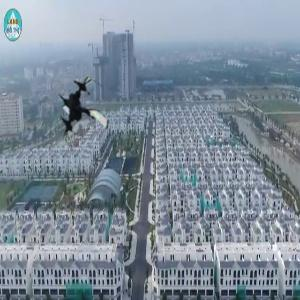drone: (48, 79, 121, 152)
